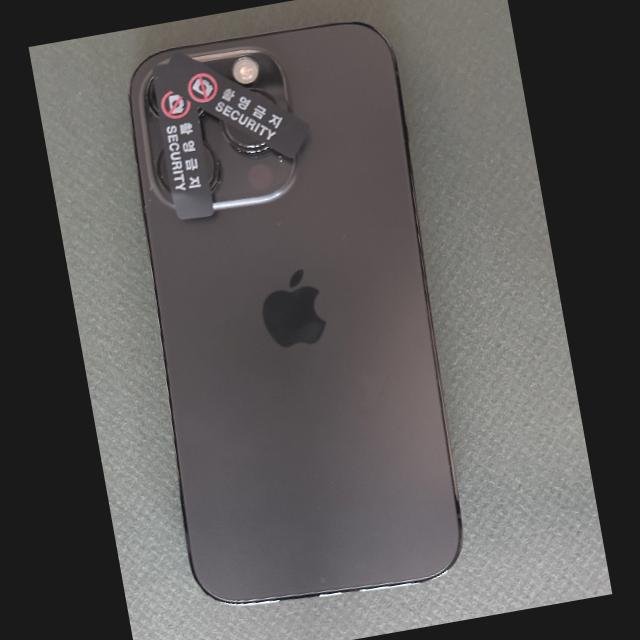lens: (221, 118, 269, 153), (204, 144, 220, 190), (147, 78, 160, 118)
phone: (129, 20, 463, 605)
sticker: (155, 51, 313, 158), (152, 63, 213, 219)
